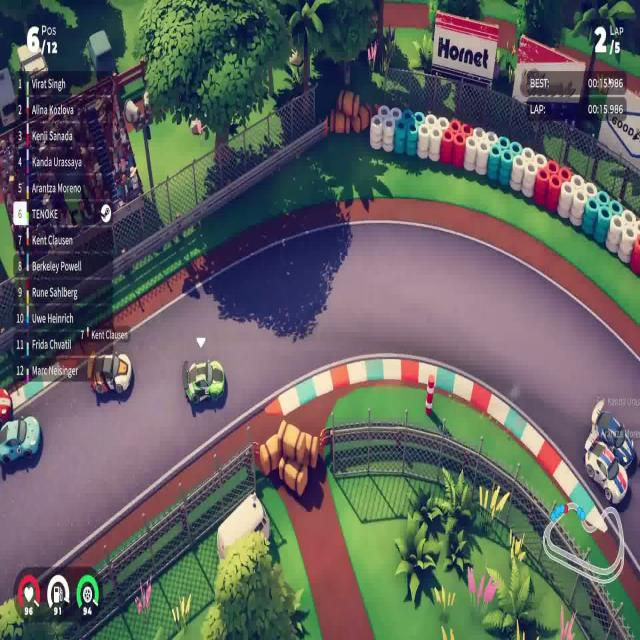car: (594, 410, 638, 470), (582, 449, 628, 504), (90, 350, 132, 397), (185, 358, 225, 406)
